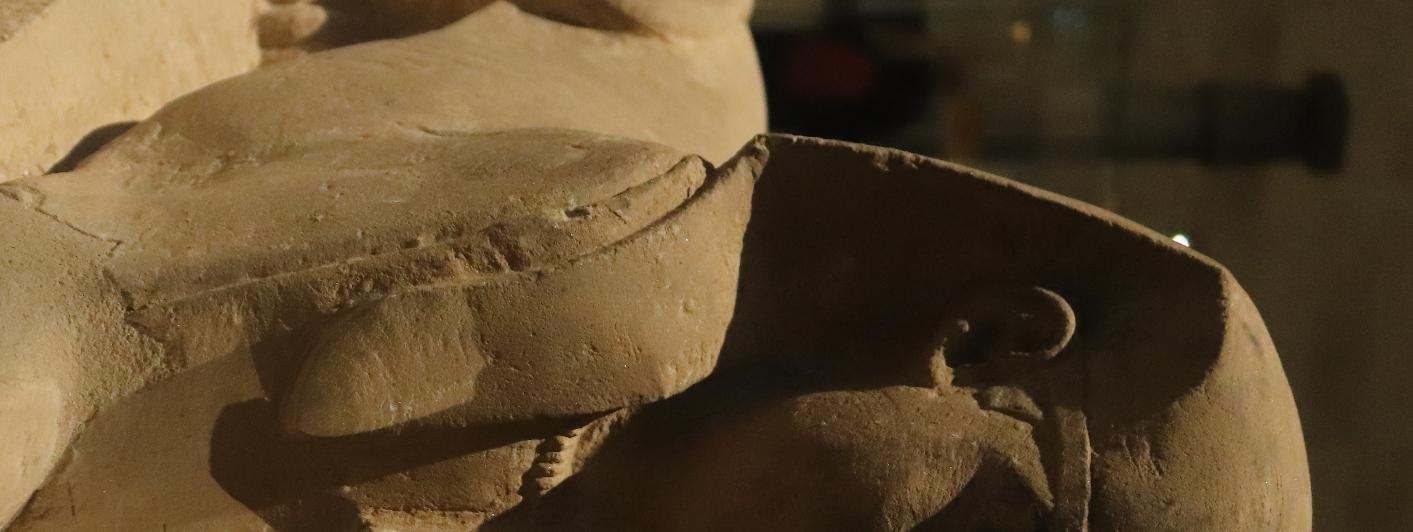statue_ofthe_sphinx: (0, 25, 853, 532)
